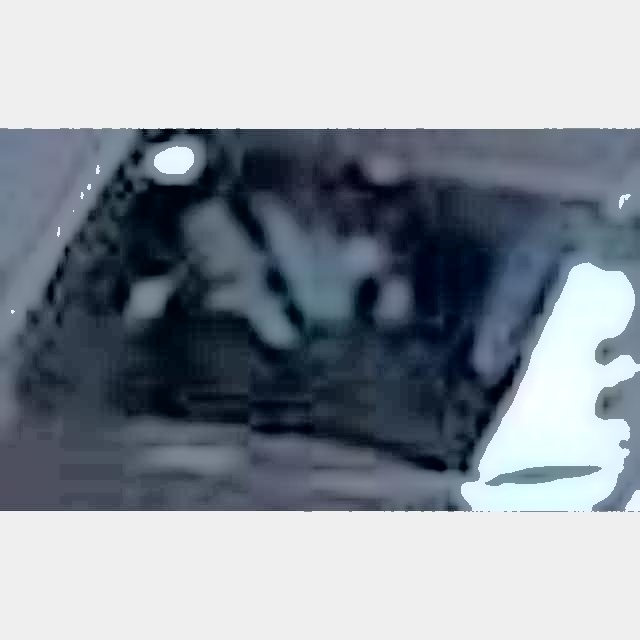pakai: (172, 184, 437, 387)
